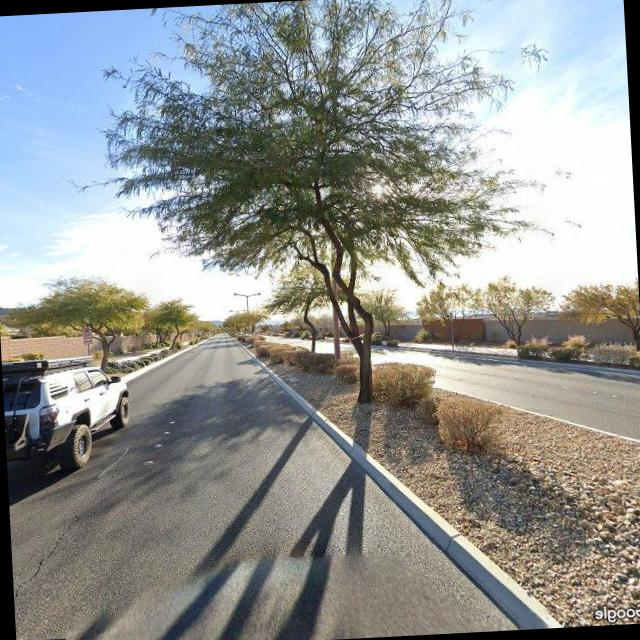pothole: (12, 512, 92, 636)
